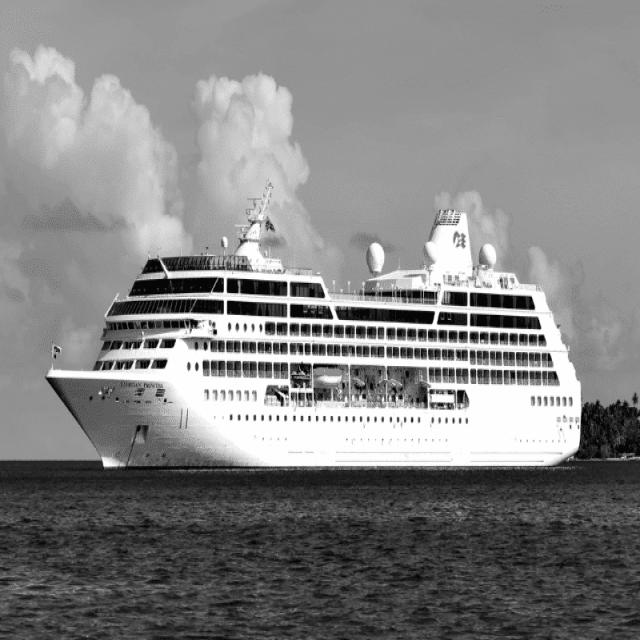Cruise Ship: (42, 187, 587, 480)
